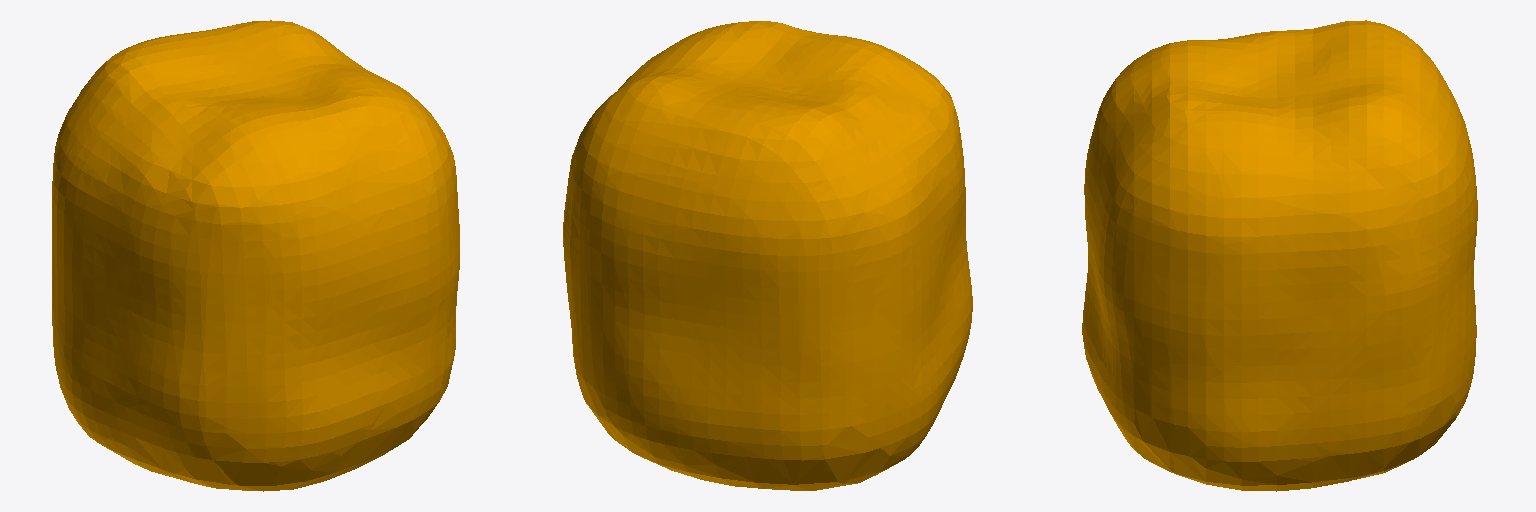
robot.urdf — 073-j_lego_duplo:
<?xml version="1.0" ?>
<robot name="073-j_lego_duplo">
  <link name="base_link">
    <inertial>
      <mass value="0.005006075445730399"/>
      <origin rpy="0.02825 -0.0911  -2.39176" xyz="-0.00307  0.00379  0.02343"/>
      <inertia ixx="1.1246286525285832e-06" ixy="2.2357827620989833e-22" ixz="2.243162042193451e-22" iyy="1.1141249921679534e-06" iyz="1.9791081333127623e-22" izz="9.739631257310058e-07"/>
    </inertial>
    <collision name="073-j_lego_duplo__collision">
      <origin rpy="0 0 0" xyz="0 0 0"/>
      <geometry>
        <mesh filename="./073-j_lego_duplo_250_collision.stl" scale="1.0 1.0 1.0"/>
      </geometry>
    </collision>
    <visual name="073-j_lego_duplo__visual">
      <origin rpy="0 0 0" xyz="0 0 0"/>
      <geometry>
        <mesh filename="./textured.obj" scale="1.0 1.0 1.0"/>
      </geometry>
    </visual>
  </link>
</robot>

--- Facts derived from the render (not from the file) ---
Views: 3 orthographic renders of the robot side by side, from view 1: azimuth 30°, elevation 25°; view 2: azimuth 150°, elevation 25°; view 3: azimuth 270°, elevation 25°.
Model 073-j_lego_duplo with 1 links and 0 joints (none), rooted at base_link, posed all joints at 0.
Links seen in each view (by area): view 1: base_link; view 2: base_link; view 3: base_link.
Boxes of the visible links, x1=… form: base_link: x1=52, y1=20, x2=459, y2=491; base_link: x1=563, y1=21, x2=972, y2=490; base_link: x1=1082, y1=20, x2=1477, y2=491.
Bounding box of the posed robot: 0.0407 × 0.0406 × 0.0438 m (x, y, z).
Meshes: 1 distinct files referenced, 1 mesh visuals loaded (1 OBJ).
